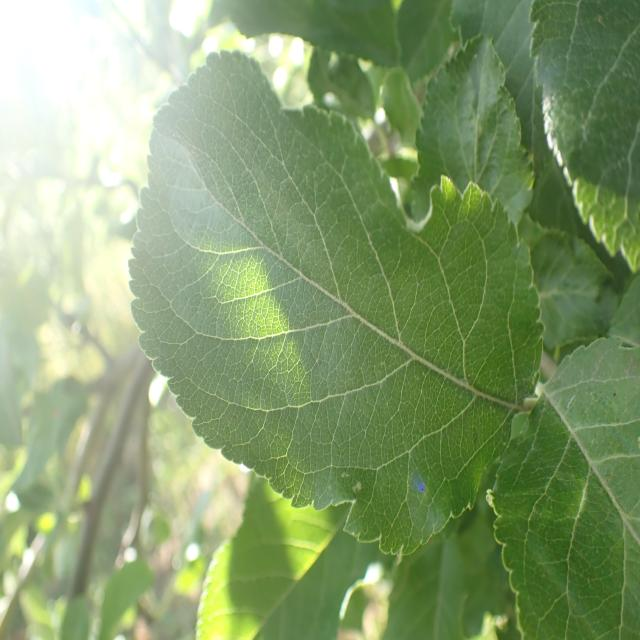healthy: (127, 49, 544, 560)
